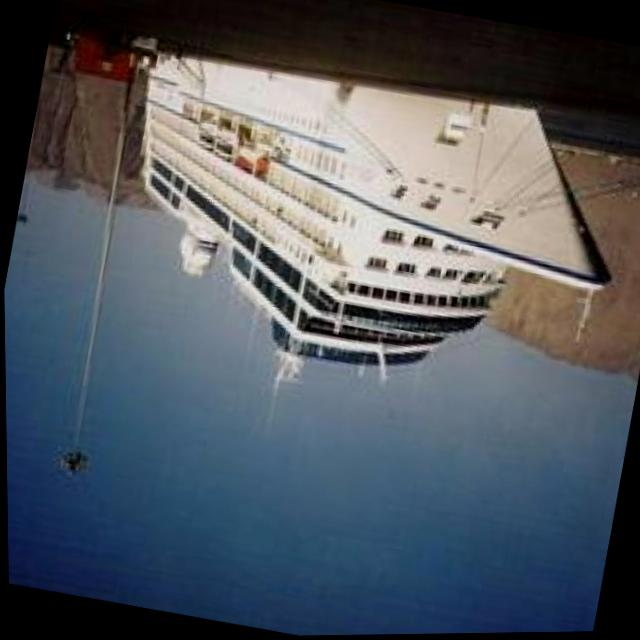ship2: (139, 48, 612, 383)
